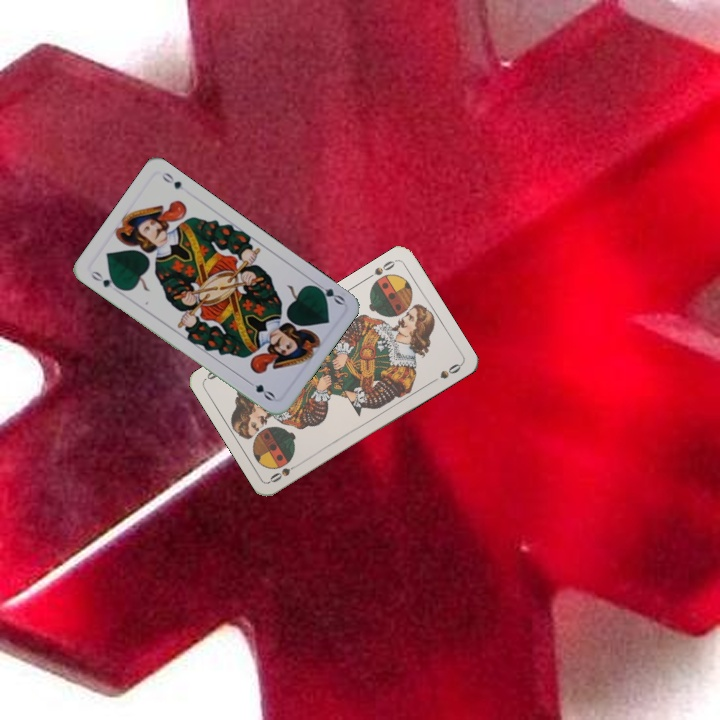GO: (309, 278, 347, 307), (86, 267, 124, 292)
SO: (265, 459, 303, 485), (362, 256, 399, 282)
